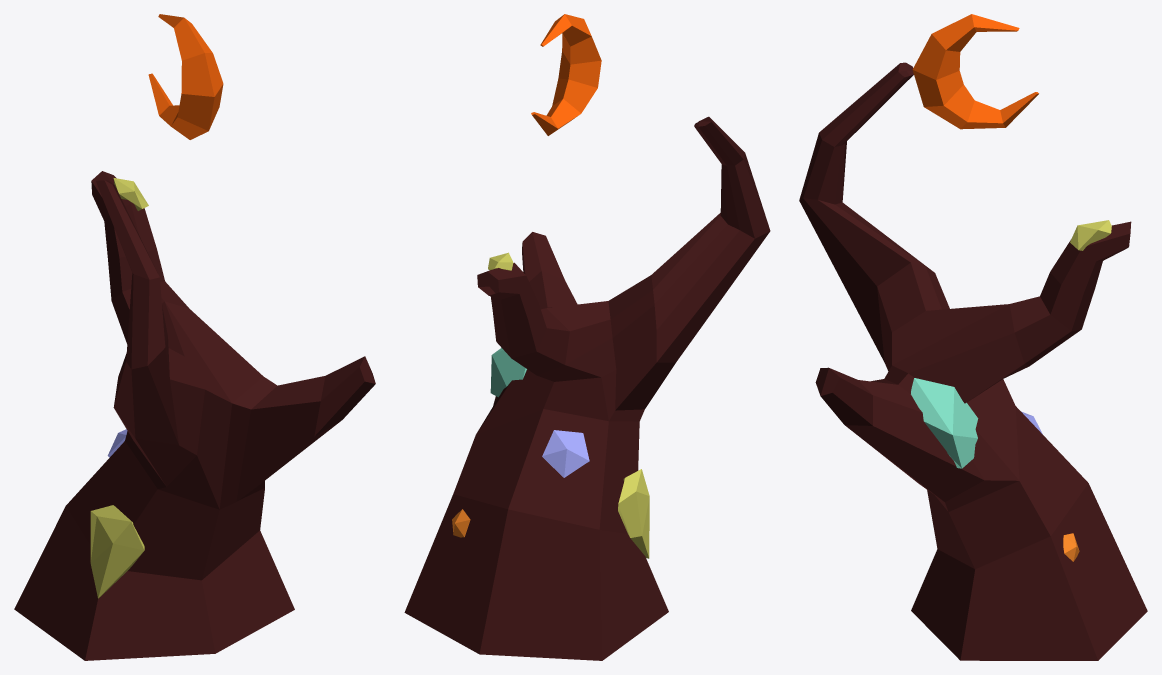
The model's file is st1_tree4.fbx.
3 views of the same model, side by side, from view 1: azimuth 30°, elevation 25°; view 2: azimuth 150°, elevation 25°; view 3: azimuth 270°, elevation 25° (orthographic). The views are drawn at different scales.
Parts seen in each view (by area): view 1: 4_crystal1; view 2: 4_crystal1; view 3: 4_crystal1.
Part boxes in pixels (left/top/right/bottom): 4_crystal1: left=14, top=14, right=375, bottom=660; 4_crystal1: left=404, top=14, right=770, bottom=660; 4_crystal1: left=799, top=14, right=1147, bottom=660.
Size of the model in its own units: 99.76 by 232 by 123.
